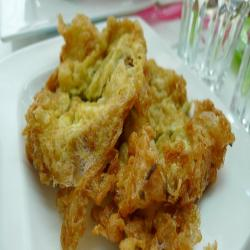apple_pie: (32, 25, 226, 250)
